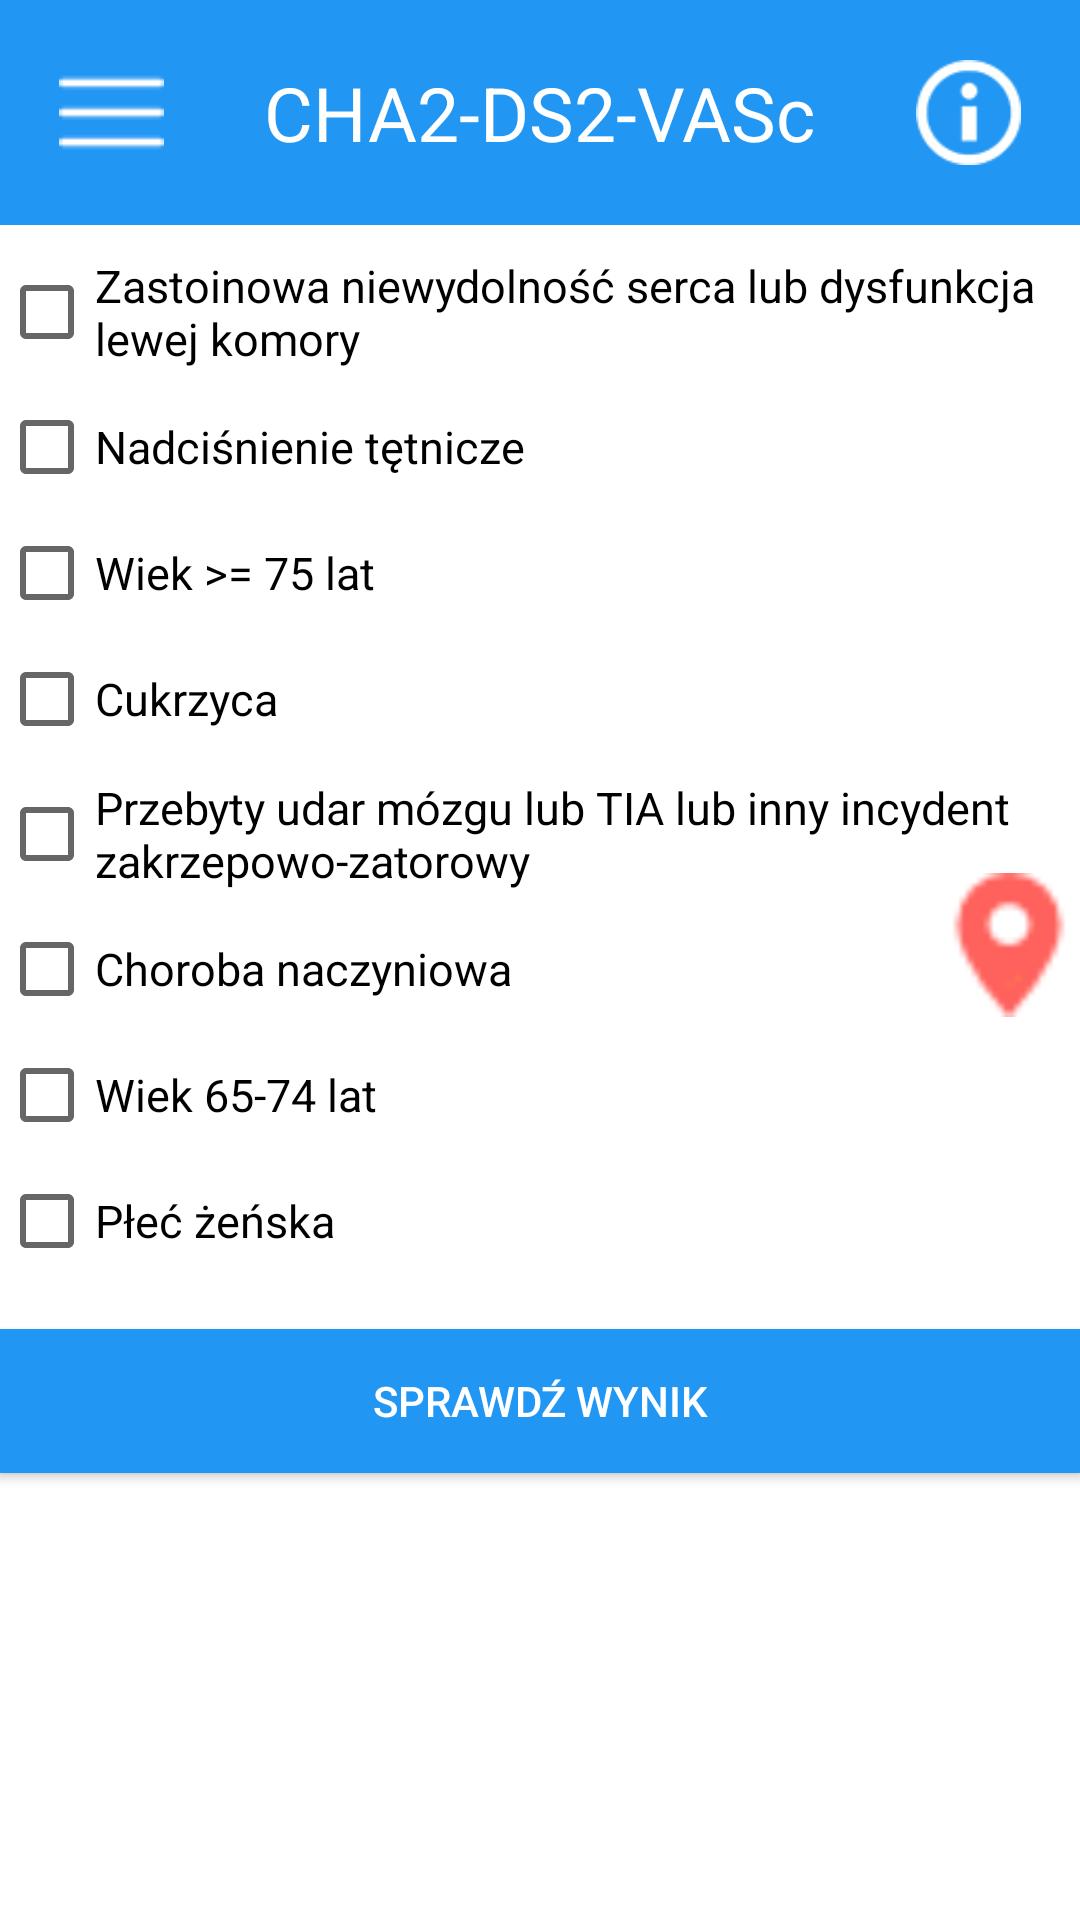

Icons on this 1080×1920 Android screen, each with the point to tap as point (x, y):
info: point (968, 112)
open: point (111, 112)
